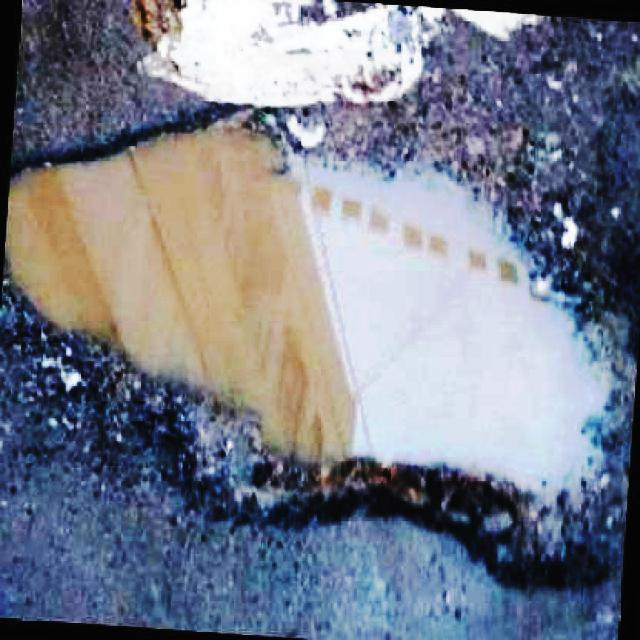pothole: (0, 96, 640, 598)
